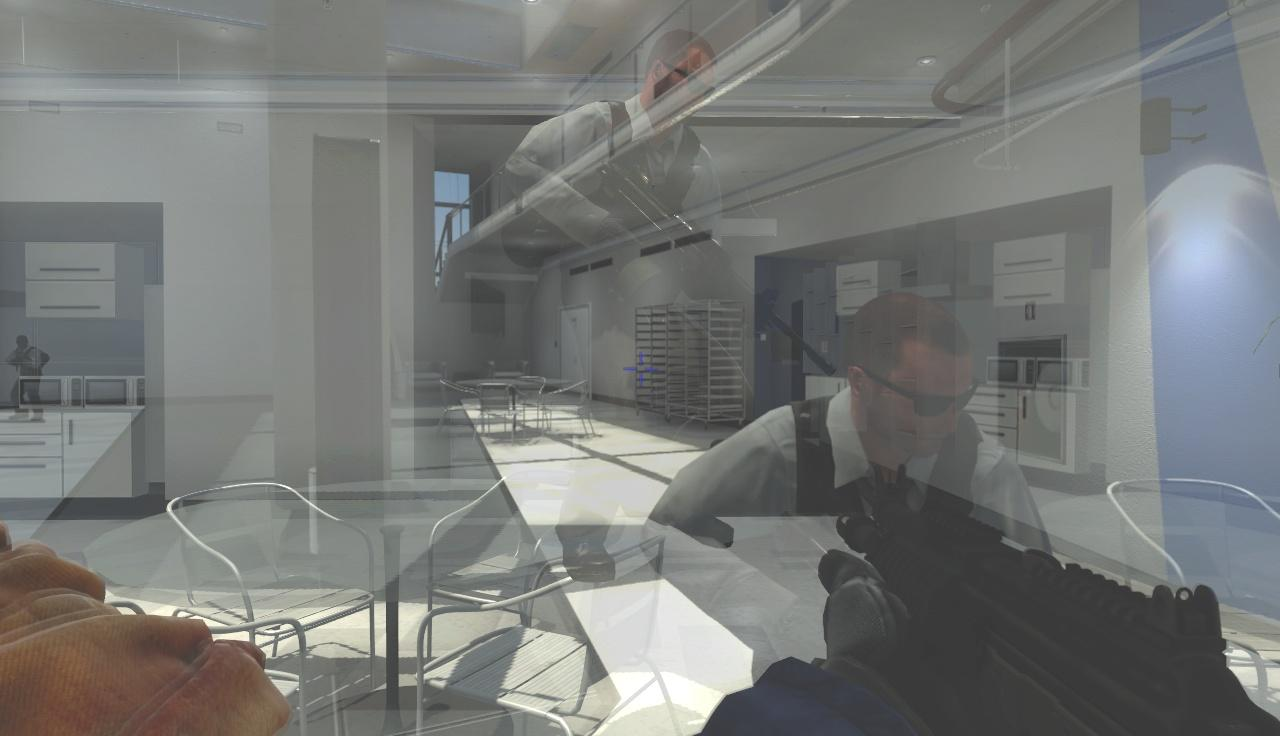rifle: (827, 479, 1277, 736)
tt: (500, 25, 727, 249), (7, 333, 43, 421)
tthead: (843, 294, 976, 455), (646, 31, 714, 121), (15, 334, 29, 349)
